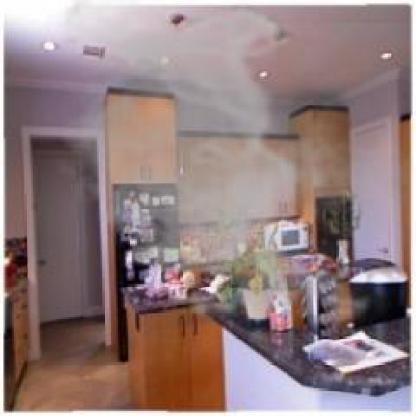Smoke: (48, 0, 412, 338)
